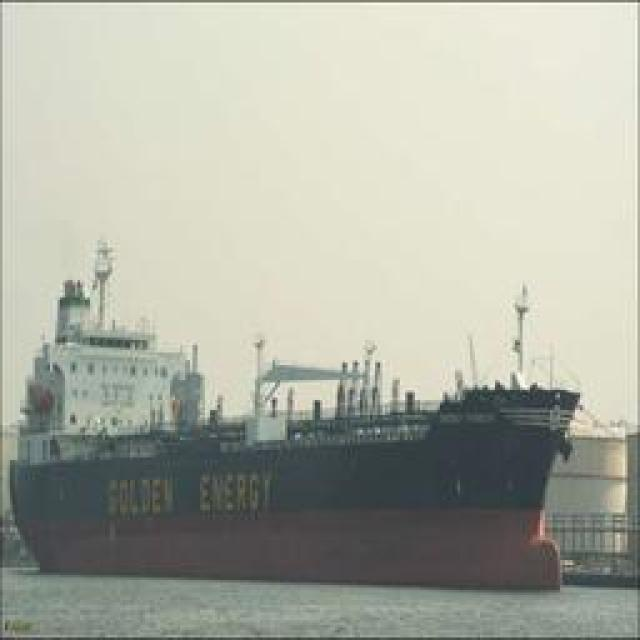CIV_Ship: (14, 226, 578, 586)
